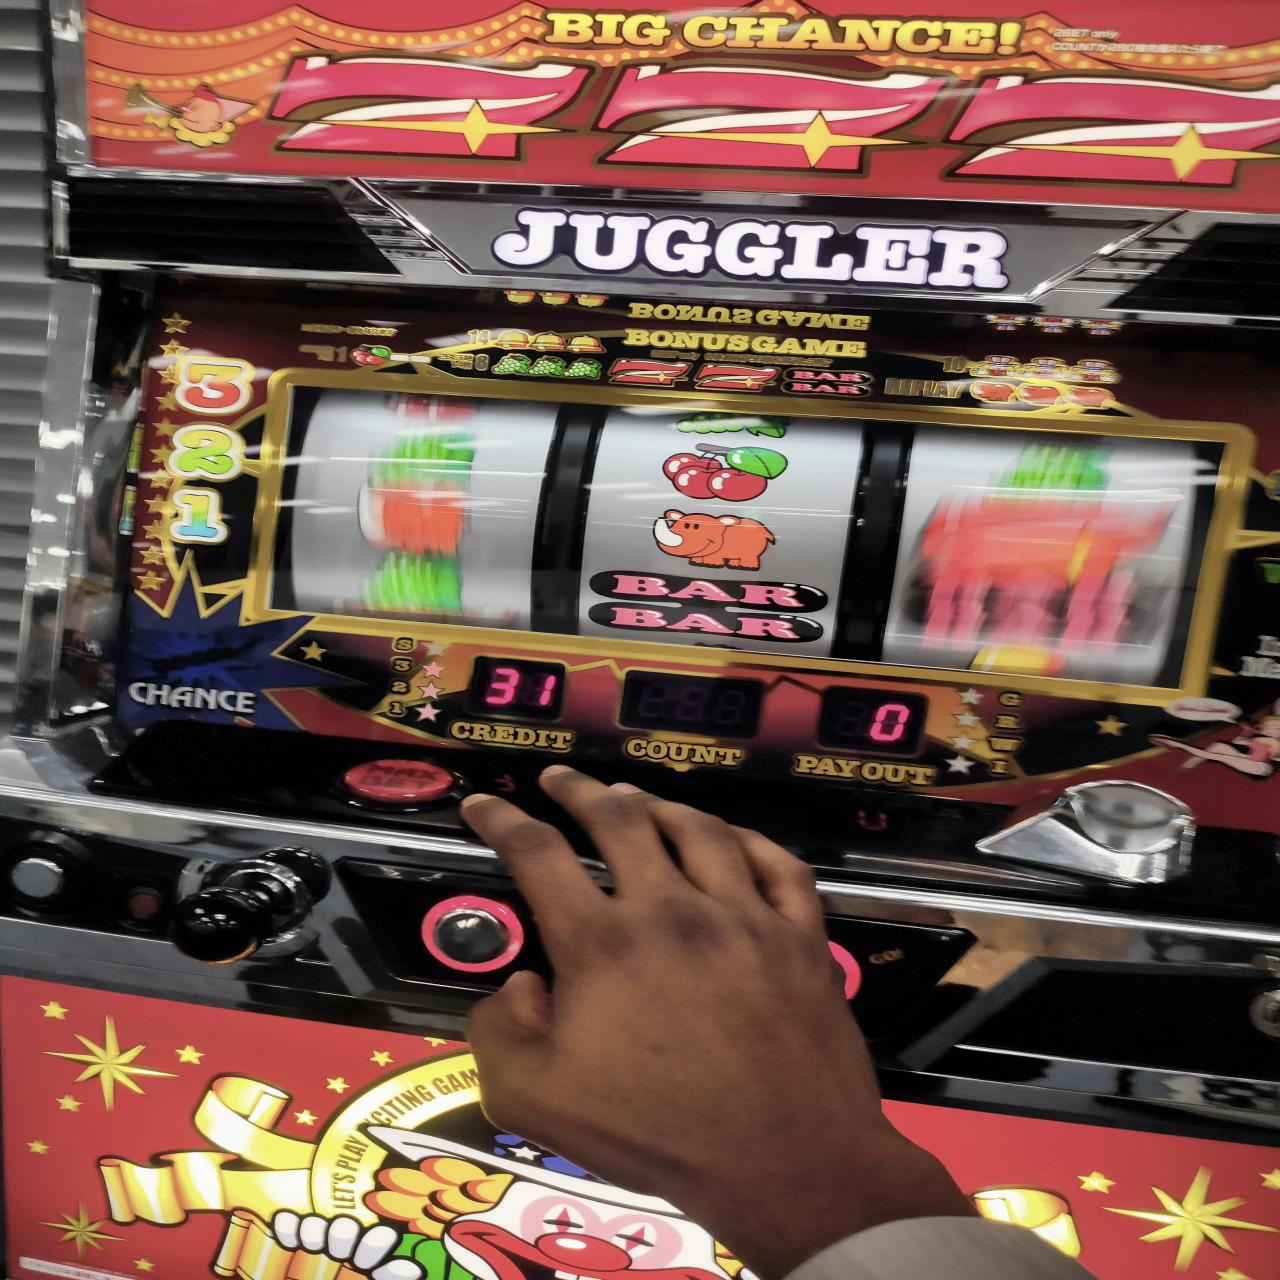8: (645, 506, 779, 572)
bar: (591, 573, 825, 642)
cherry: (658, 441, 791, 501)
rhino: (281, 383, 1193, 694)
